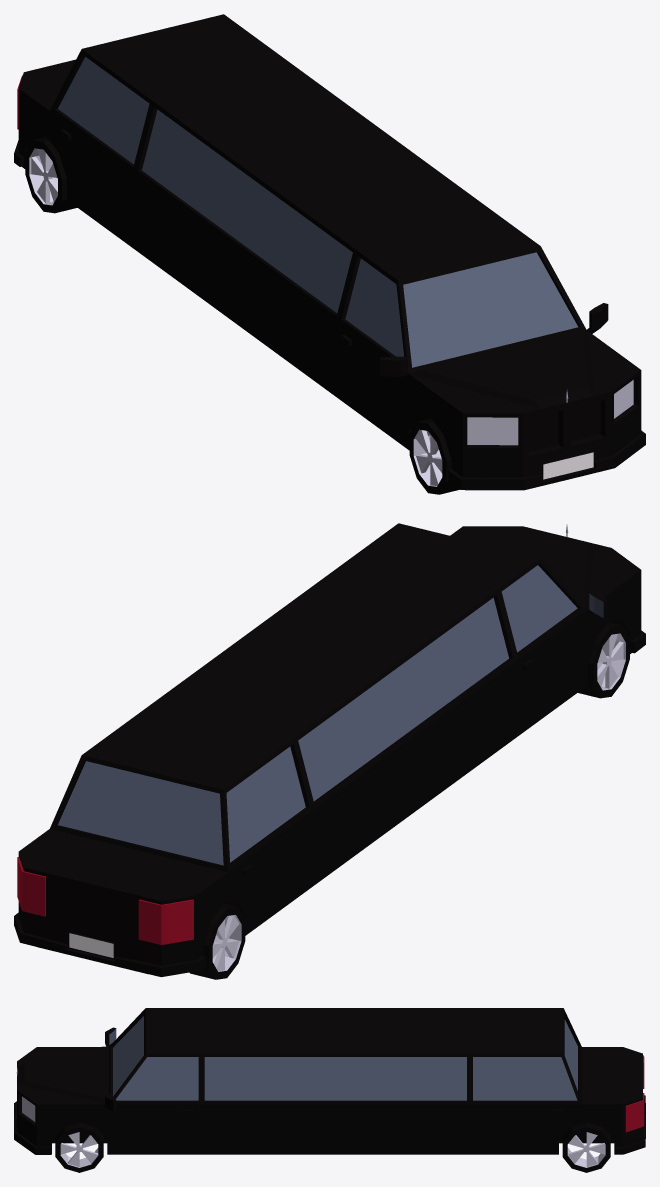
The model's file is rgs-Limousine.glb.
3 views of the same model, one above another, from view 1: azimuth 30°, elevation 25°; view 2: azimuth 150°, elevation 25°; view 3: azimuth 270°, elevation 25° (orthographic). The views are drawn at different scales.
Parts seen in each view (by area): view 1: Limousine, Limousine wheel rear right, Limousine wheel front right; view 2: Limousine, Limousine wheel rear right, Limousine wheel front right; view 3: Limousine, Limousine wheel rear left, Limousine wheel front left.
Part boxes in pixels (x1=…): Limousine: x1=14, y1=14, x2=645, y2=490; Limousine wheel rear right: x1=25, y1=137, x2=77, y2=213; Limousine wheel front right: x1=409, y1=418, x2=459, y2=494; Limousine: x1=14, y1=523, x2=645, y2=977; Limousine wheel rear right: x1=189, y1=903, x2=245, y2=979; Limousine wheel front right: x1=578, y1=622, x2=629, y2=698; Limousine: x1=14, y1=1008, x2=645, y2=1154; Limousine wheel rear left: x1=562, y1=1123, x2=610, y2=1172; Limousine wheel front left: x1=55, y1=1122, x2=103, y2=1172.
Size of the model in its own units: 2.81 by 2.01 by 10.24.
